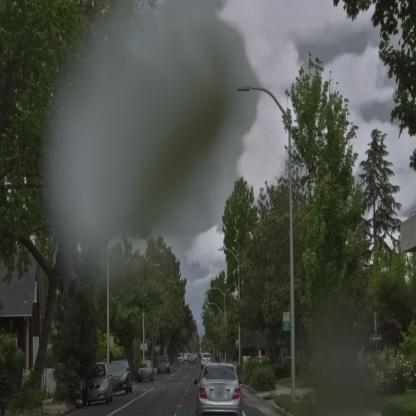car: (194, 363, 243, 416), (84, 364, 115, 406), (108, 361, 134, 395), (139, 361, 156, 383), (157, 360, 170, 373)
